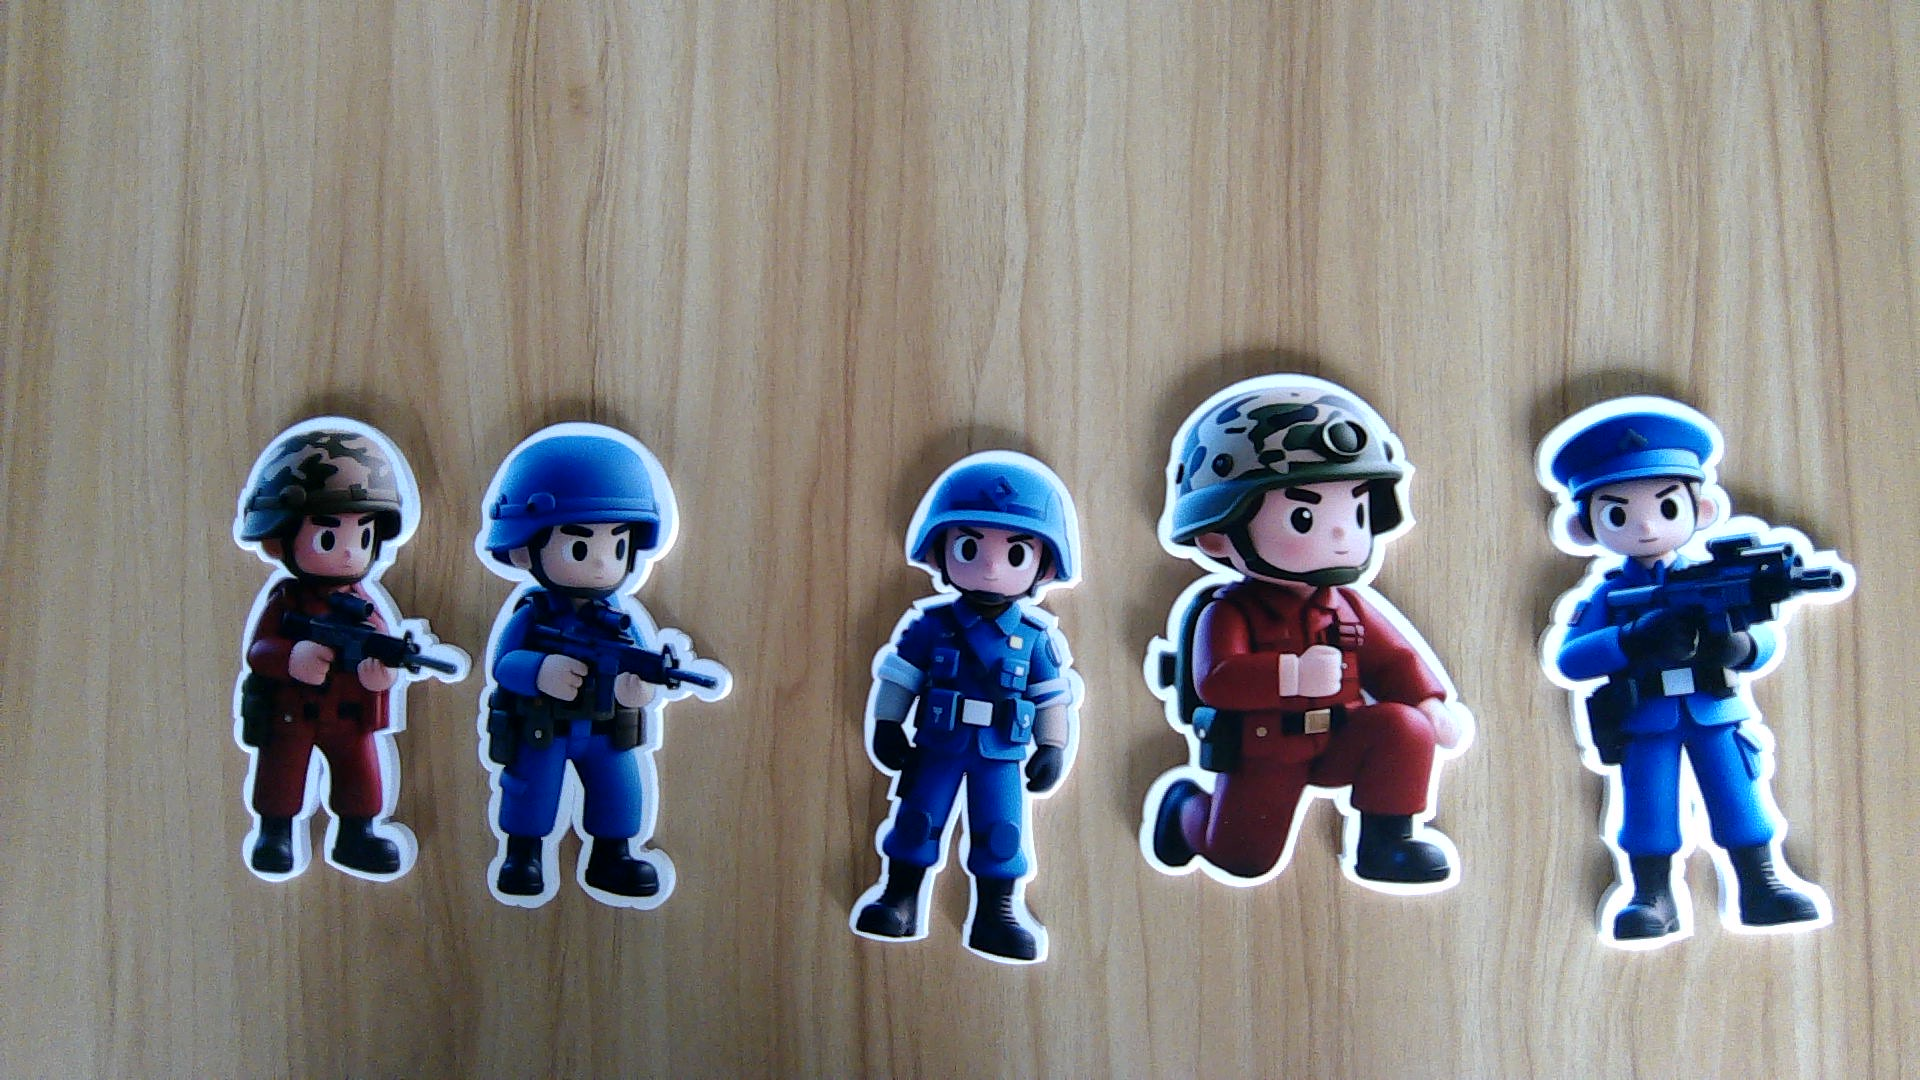敌人1: (1135, 579, 1478, 891), (227, 579, 446, 887)
敌人2: (1532, 555, 1869, 957), (836, 588, 1088, 969), (479, 593, 735, 899)
